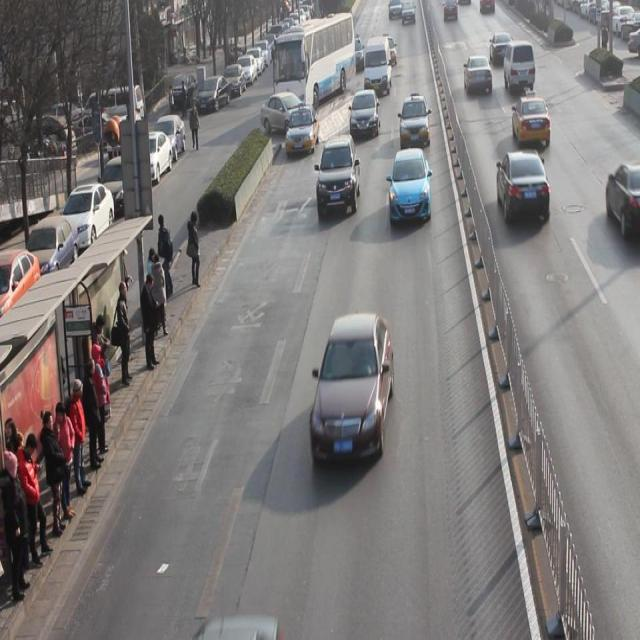car: (311, 309, 394, 466), (497, 150, 551, 227), (316, 134, 360, 218), (390, 148, 432, 228), (606, 159, 640, 241), (261, 92, 312, 138), (512, 94, 552, 149), (400, 95, 432, 149), (286, 106, 320, 156), (349, 90, 382, 140), (464, 54, 494, 97), (490, 31, 514, 69)
truck: (363, 35, 393, 95), (504, 40, 536, 95)
van: (274, 11, 358, 119)
